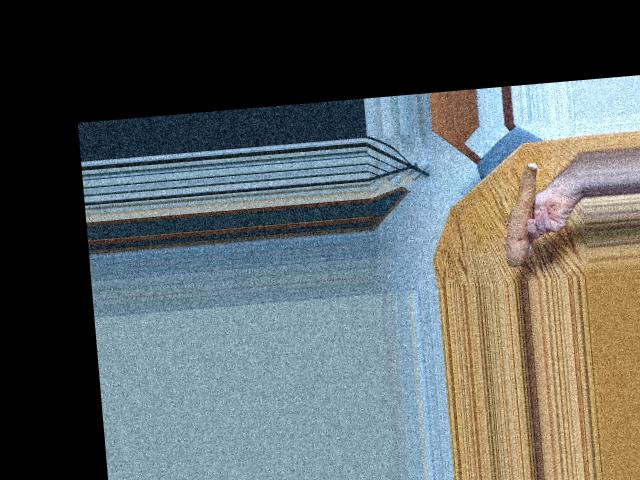sweet_potato: (494, 160, 550, 266)
